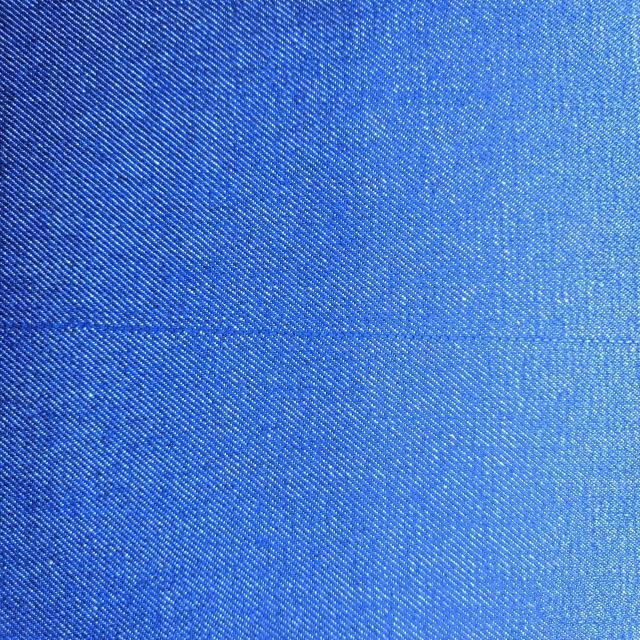Line: (0, 318, 639, 347)
